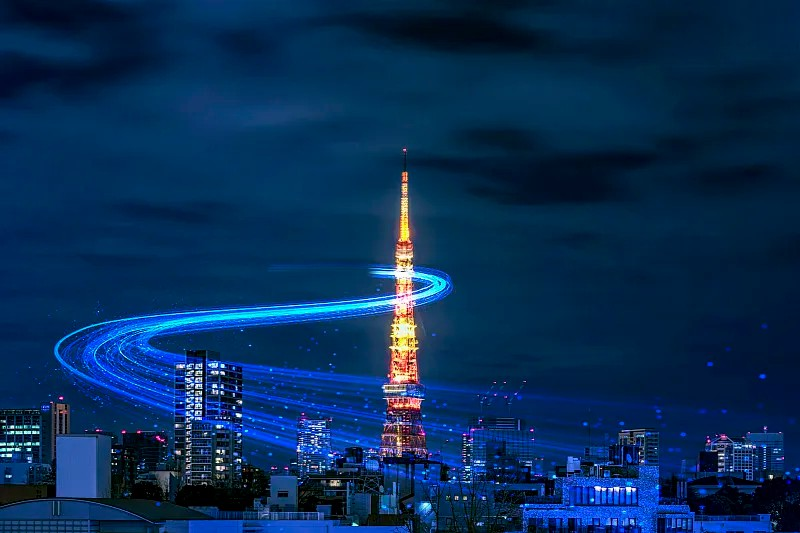Tokyo: (376, 147, 432, 462)
